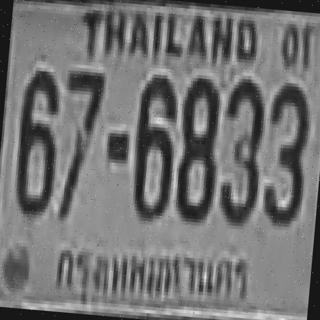N03: (215, 74, 265, 224), (259, 78, 310, 224)
N06: (10, 67, 62, 214), (129, 72, 178, 221)
N07: (54, 66, 104, 220), (58, 68, 104, 169)
N08: (172, 74, 222, 220)
P04: (50, 238, 252, 313)
